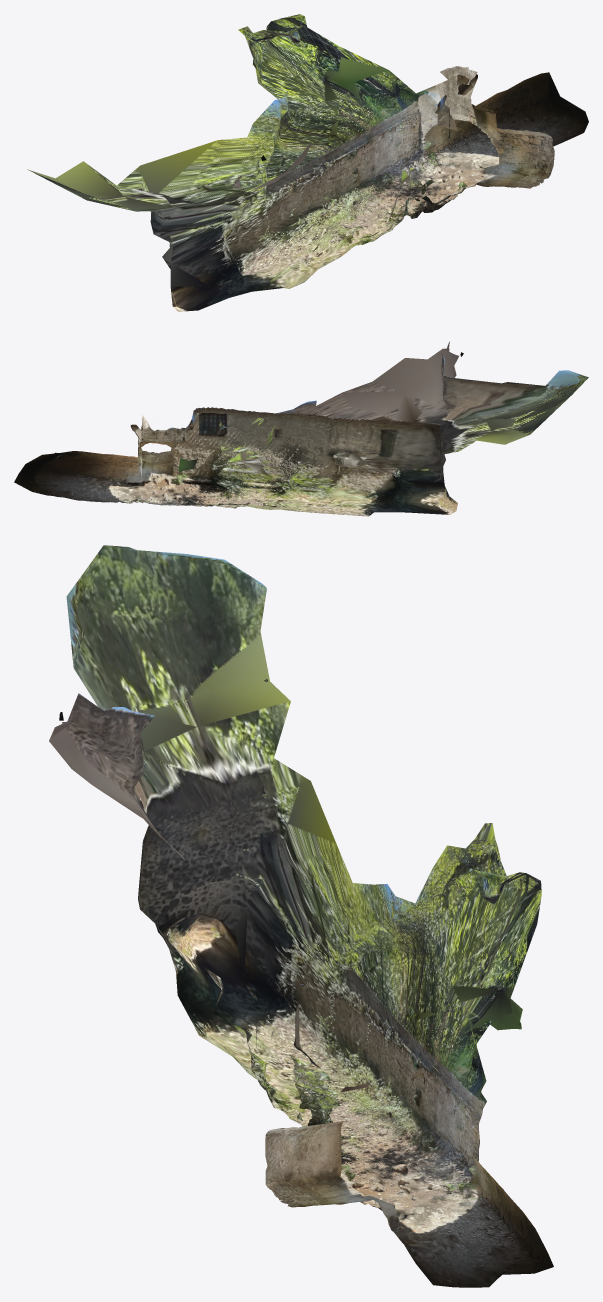
File: medium.glb
The picture shows the model from 3 angles, top to bottom: view 1: azimuth 30°, elevation 25°; view 2: azimuth 150°, elevation 25°; view 3: azimuth 270°, elevation 25°; orthographic projection. The views are drawn at different scales.
Visible parts, largest first — view 1: medium.034; view 2: medium.034; view 3: medium.034.
Boxes of the visible parts, left/top/right/bottom form: medium.034: left=27, top=14, right=588, bottom=311; medium.034: left=14, top=341, right=588, bottom=516; medium.034: left=49, top=545, right=553, bottom=1287.
Bounding box in the file's own units: 28.7 × 9.16 × 13.54.
1 material, 1 textured.
